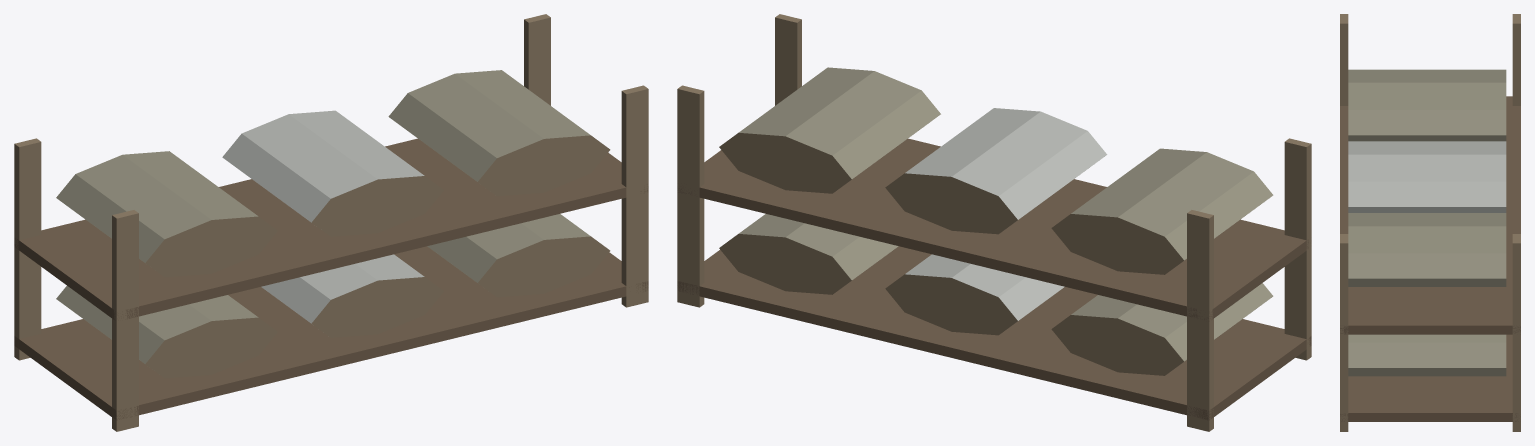
File: cloth_bolt_rack.glb
3 views of the same model, side by side, from view 1: azimuth 30°, elevation 25°; view 2: azimuth 150°, elevation 25°; view 3: azimuth 270°, elevation 25° (orthographic). The views are drawn at different scales.
Visible parts, largest first — view 1: cloth_bolt_rack; view 2: cloth_bolt_rack; view 3: cloth_bolt_rack.
Boxes of the visible parts, x1,y1,x2,y2 form: cloth_bolt_rack: (14, 14, 648, 431); cloth_bolt_rack: (677, 14, 1311, 431); cloth_bolt_rack: (1340, 14, 1520, 431).
Bounding box in the file's own units: 3 × 1.15 × 1.
